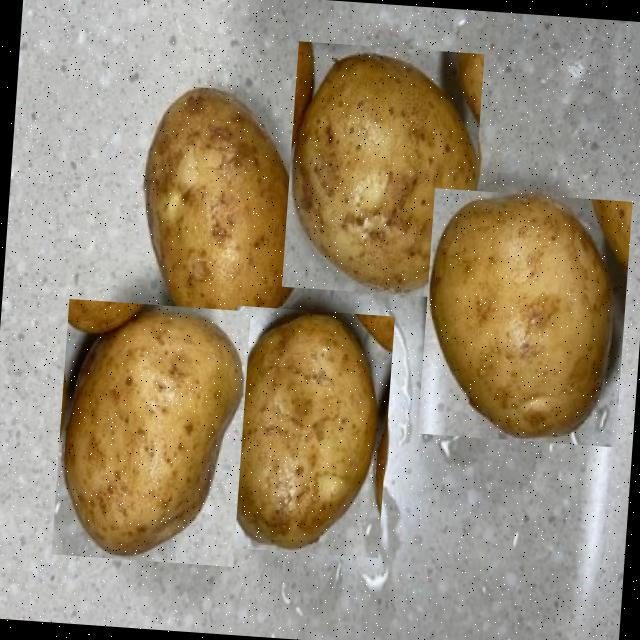Potato: (416, 188, 631, 446), (50, 298, 249, 566), (280, 41, 483, 299), (127, 76, 309, 348), (219, 306, 393, 558)
